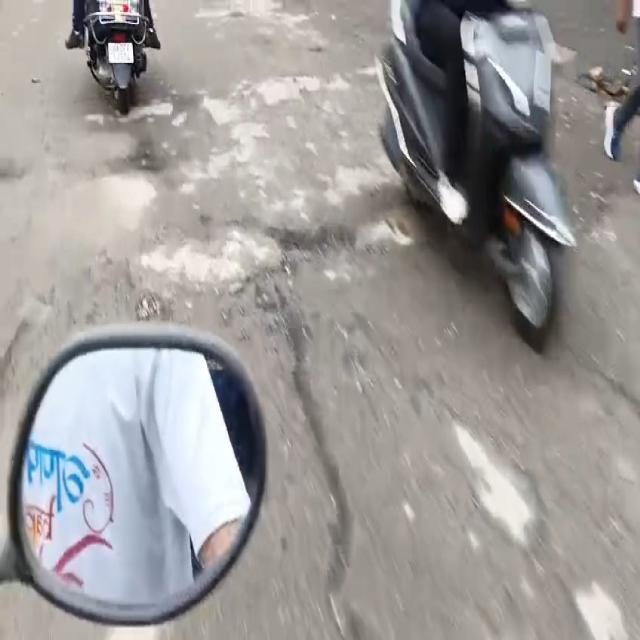road-pothole: (253, 190, 639, 632)
